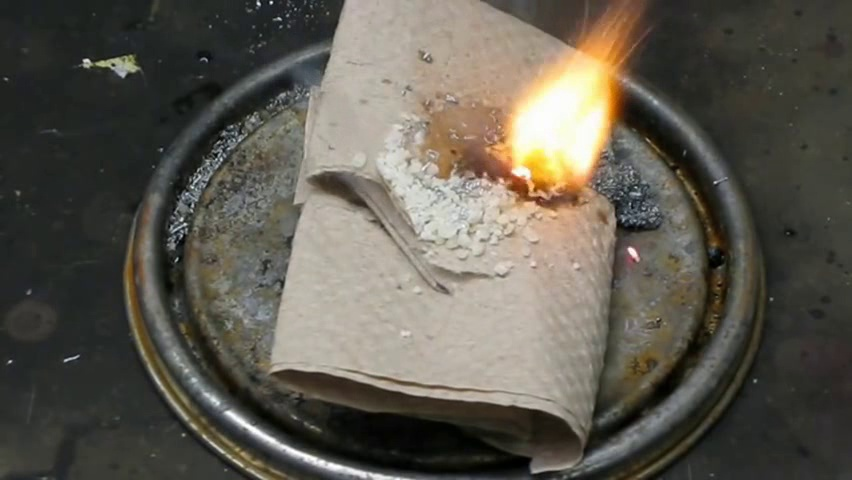fire: (492, 25, 638, 199)
